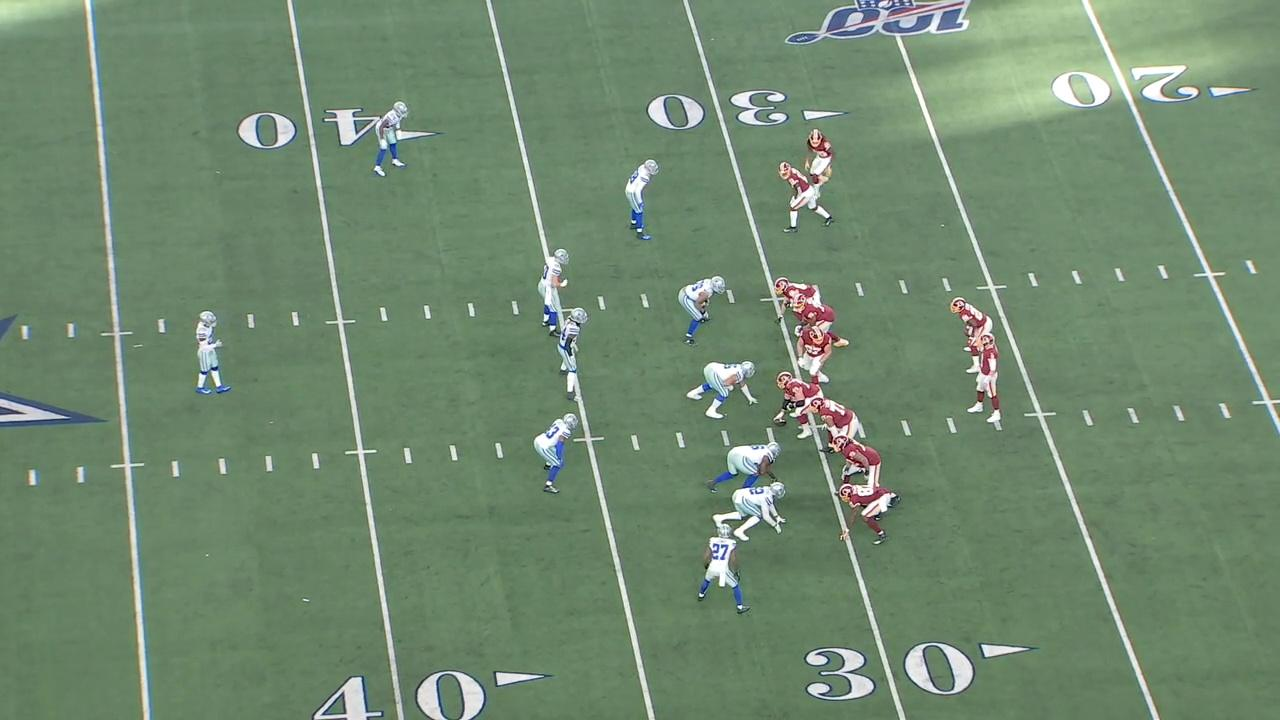defense: (697, 522, 753, 614), (685, 356, 760, 423), (711, 481, 793, 541), (706, 437, 784, 495), (674, 269, 731, 348), (531, 408, 580, 497), (189, 306, 234, 399), (622, 156, 662, 243), (538, 244, 573, 340), (555, 305, 589, 403), (374, 98, 411, 177)
oline: (827, 433, 904, 504), (769, 368, 824, 441), (786, 293, 855, 351), (811, 392, 861, 462), (792, 324, 836, 390)
qb: (966, 332, 1004, 427)
skill: (835, 482, 900, 552), (776, 163, 836, 236), (949, 295, 995, 375), (770, 275, 825, 330), (799, 125, 836, 200)
